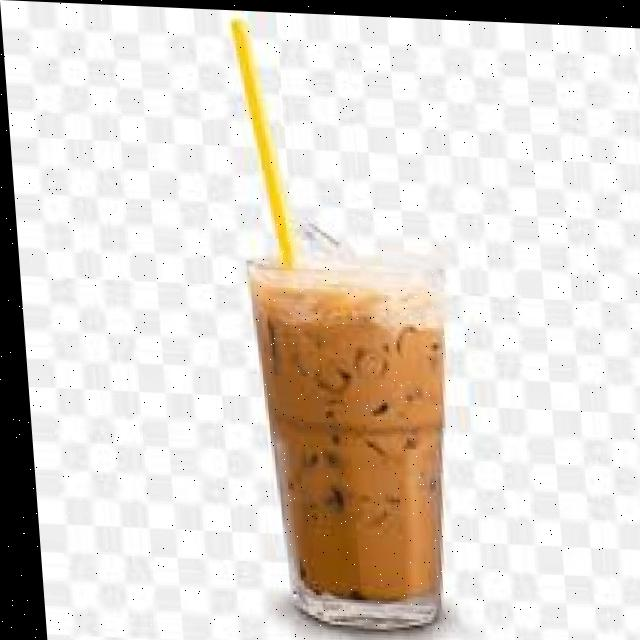cup: (249, 265, 438, 625)
